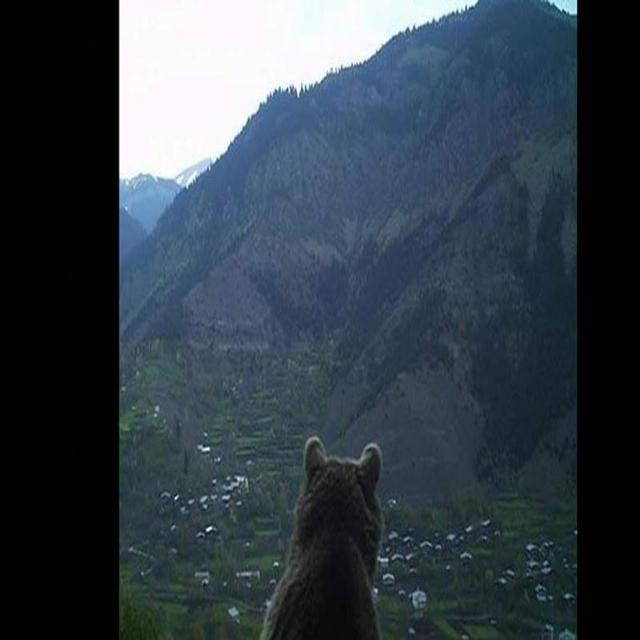Bear: (258, 438, 384, 640)
